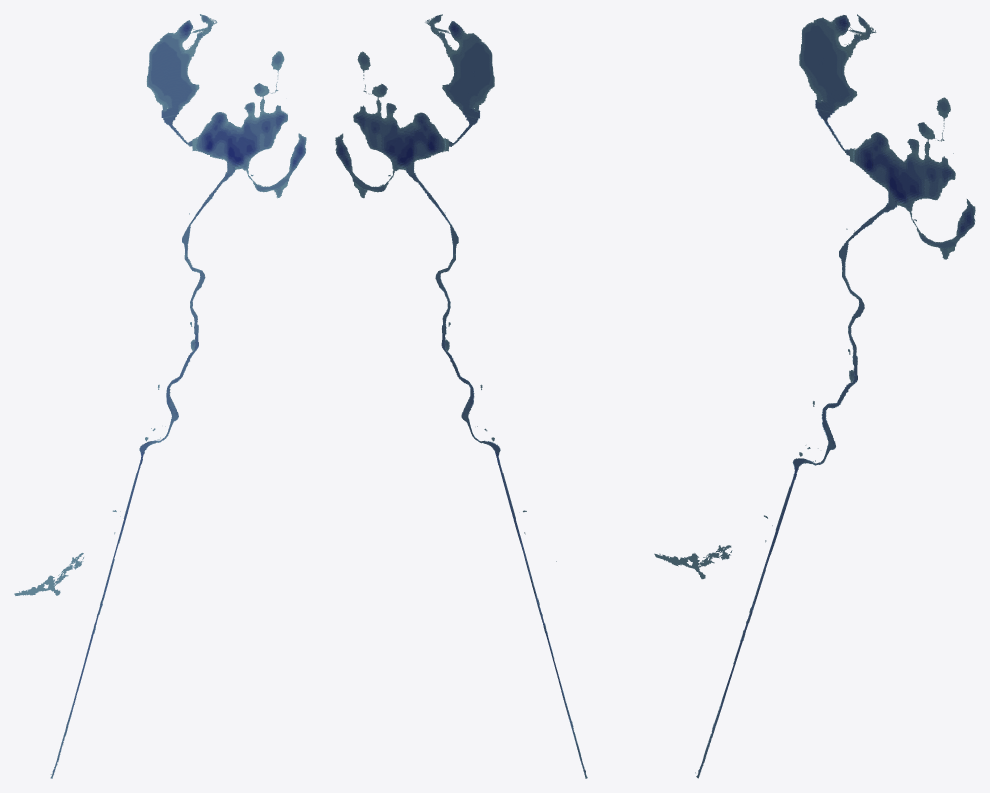
Rendered from triangle_mesh.glb.
The picture shows the model from 3 angles, left to right: view 1: azimuth 30°, elevation 25°; view 2: azimuth 150°, elevation 25°; view 3: azimuth 330°, elevation 25°; orthographic projection. The views are drawn at different scales.
Parts seen in each view (by area): view 1: world; view 2: world; view 3: world.
Boxes of the visible parts, x1=… form: world: x1=14, y1=14, x2=306, y2=778; world: x1=335, y1=14, x2=587, y2=778; world: x1=654, y1=14, x2=975, y2=778.
Size of the model in its own units: 1147 by 2739 by 13.99.
